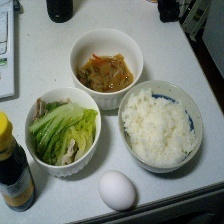rice: (120, 86, 198, 169)
